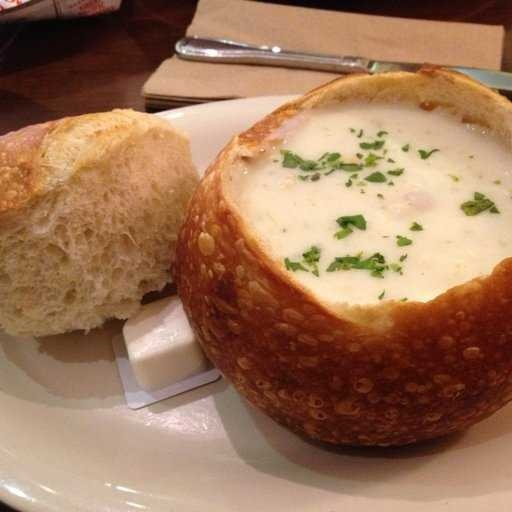soup: (211, 99, 505, 340)
